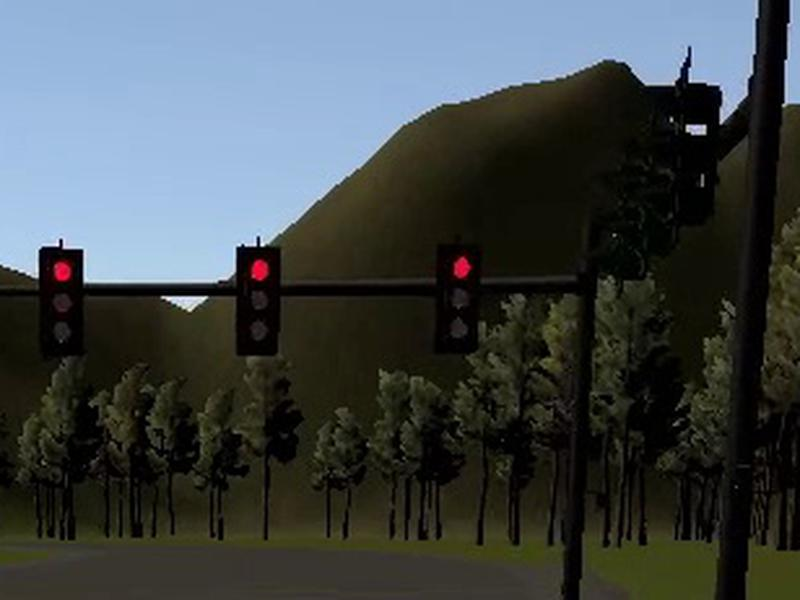Red: (435, 244, 481, 355), (236, 246, 280, 355), (39, 246, 83, 354)
